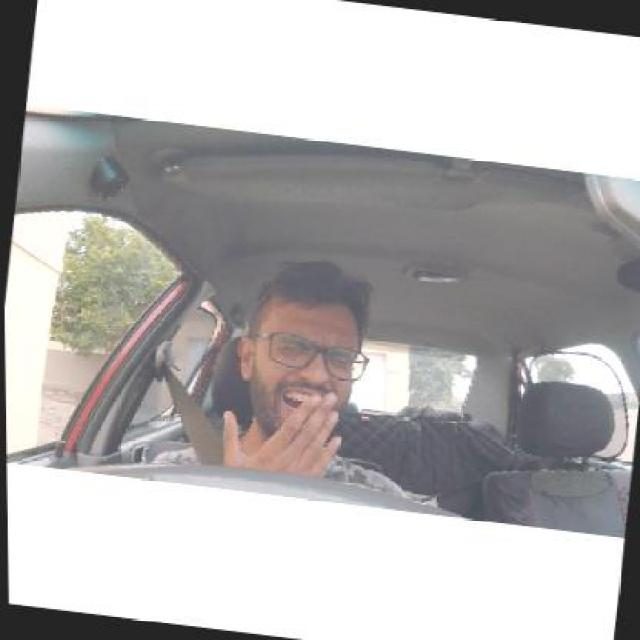drowsy: (243, 251, 375, 451)
